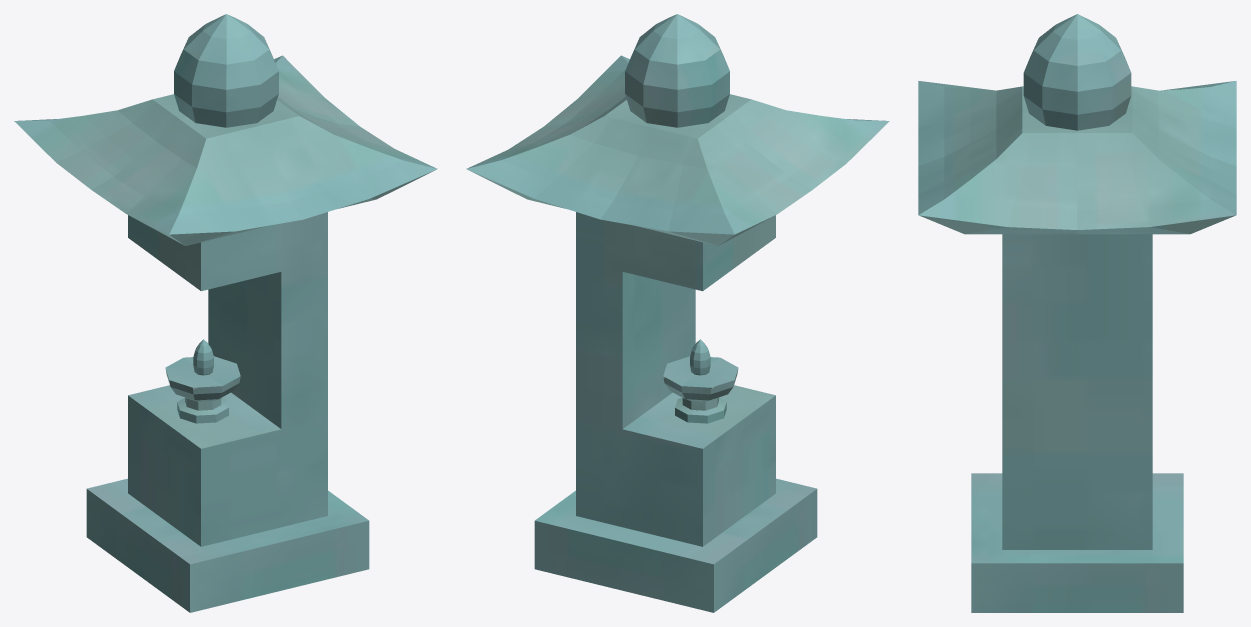
Rendered from SM_StoneLantern_07.fbx.
The picture shows the model from 3 angles, left to right: view 1: azimuth 30°, elevation 25°; view 2: azimuth 150°, elevation 25°; view 3: azimuth 270°, elevation 25°; orthographic projection. The views are drawn at different scales.
Visible parts, largest first — view 1: SM_StoneLantern_07; view 2: SM_StoneLantern_07; view 3: SM_StoneLantern_07.
Part boxes in pixels (x1,y1,x2,y2): SM_StoneLantern_07: (14, 14, 437, 612); SM_StoneLantern_07: (466, 14, 889, 612); SM_StoneLantern_07: (918, 14, 1236, 612).
Bounding box in the file's own units: 78.42 × 150 × 78.42.
